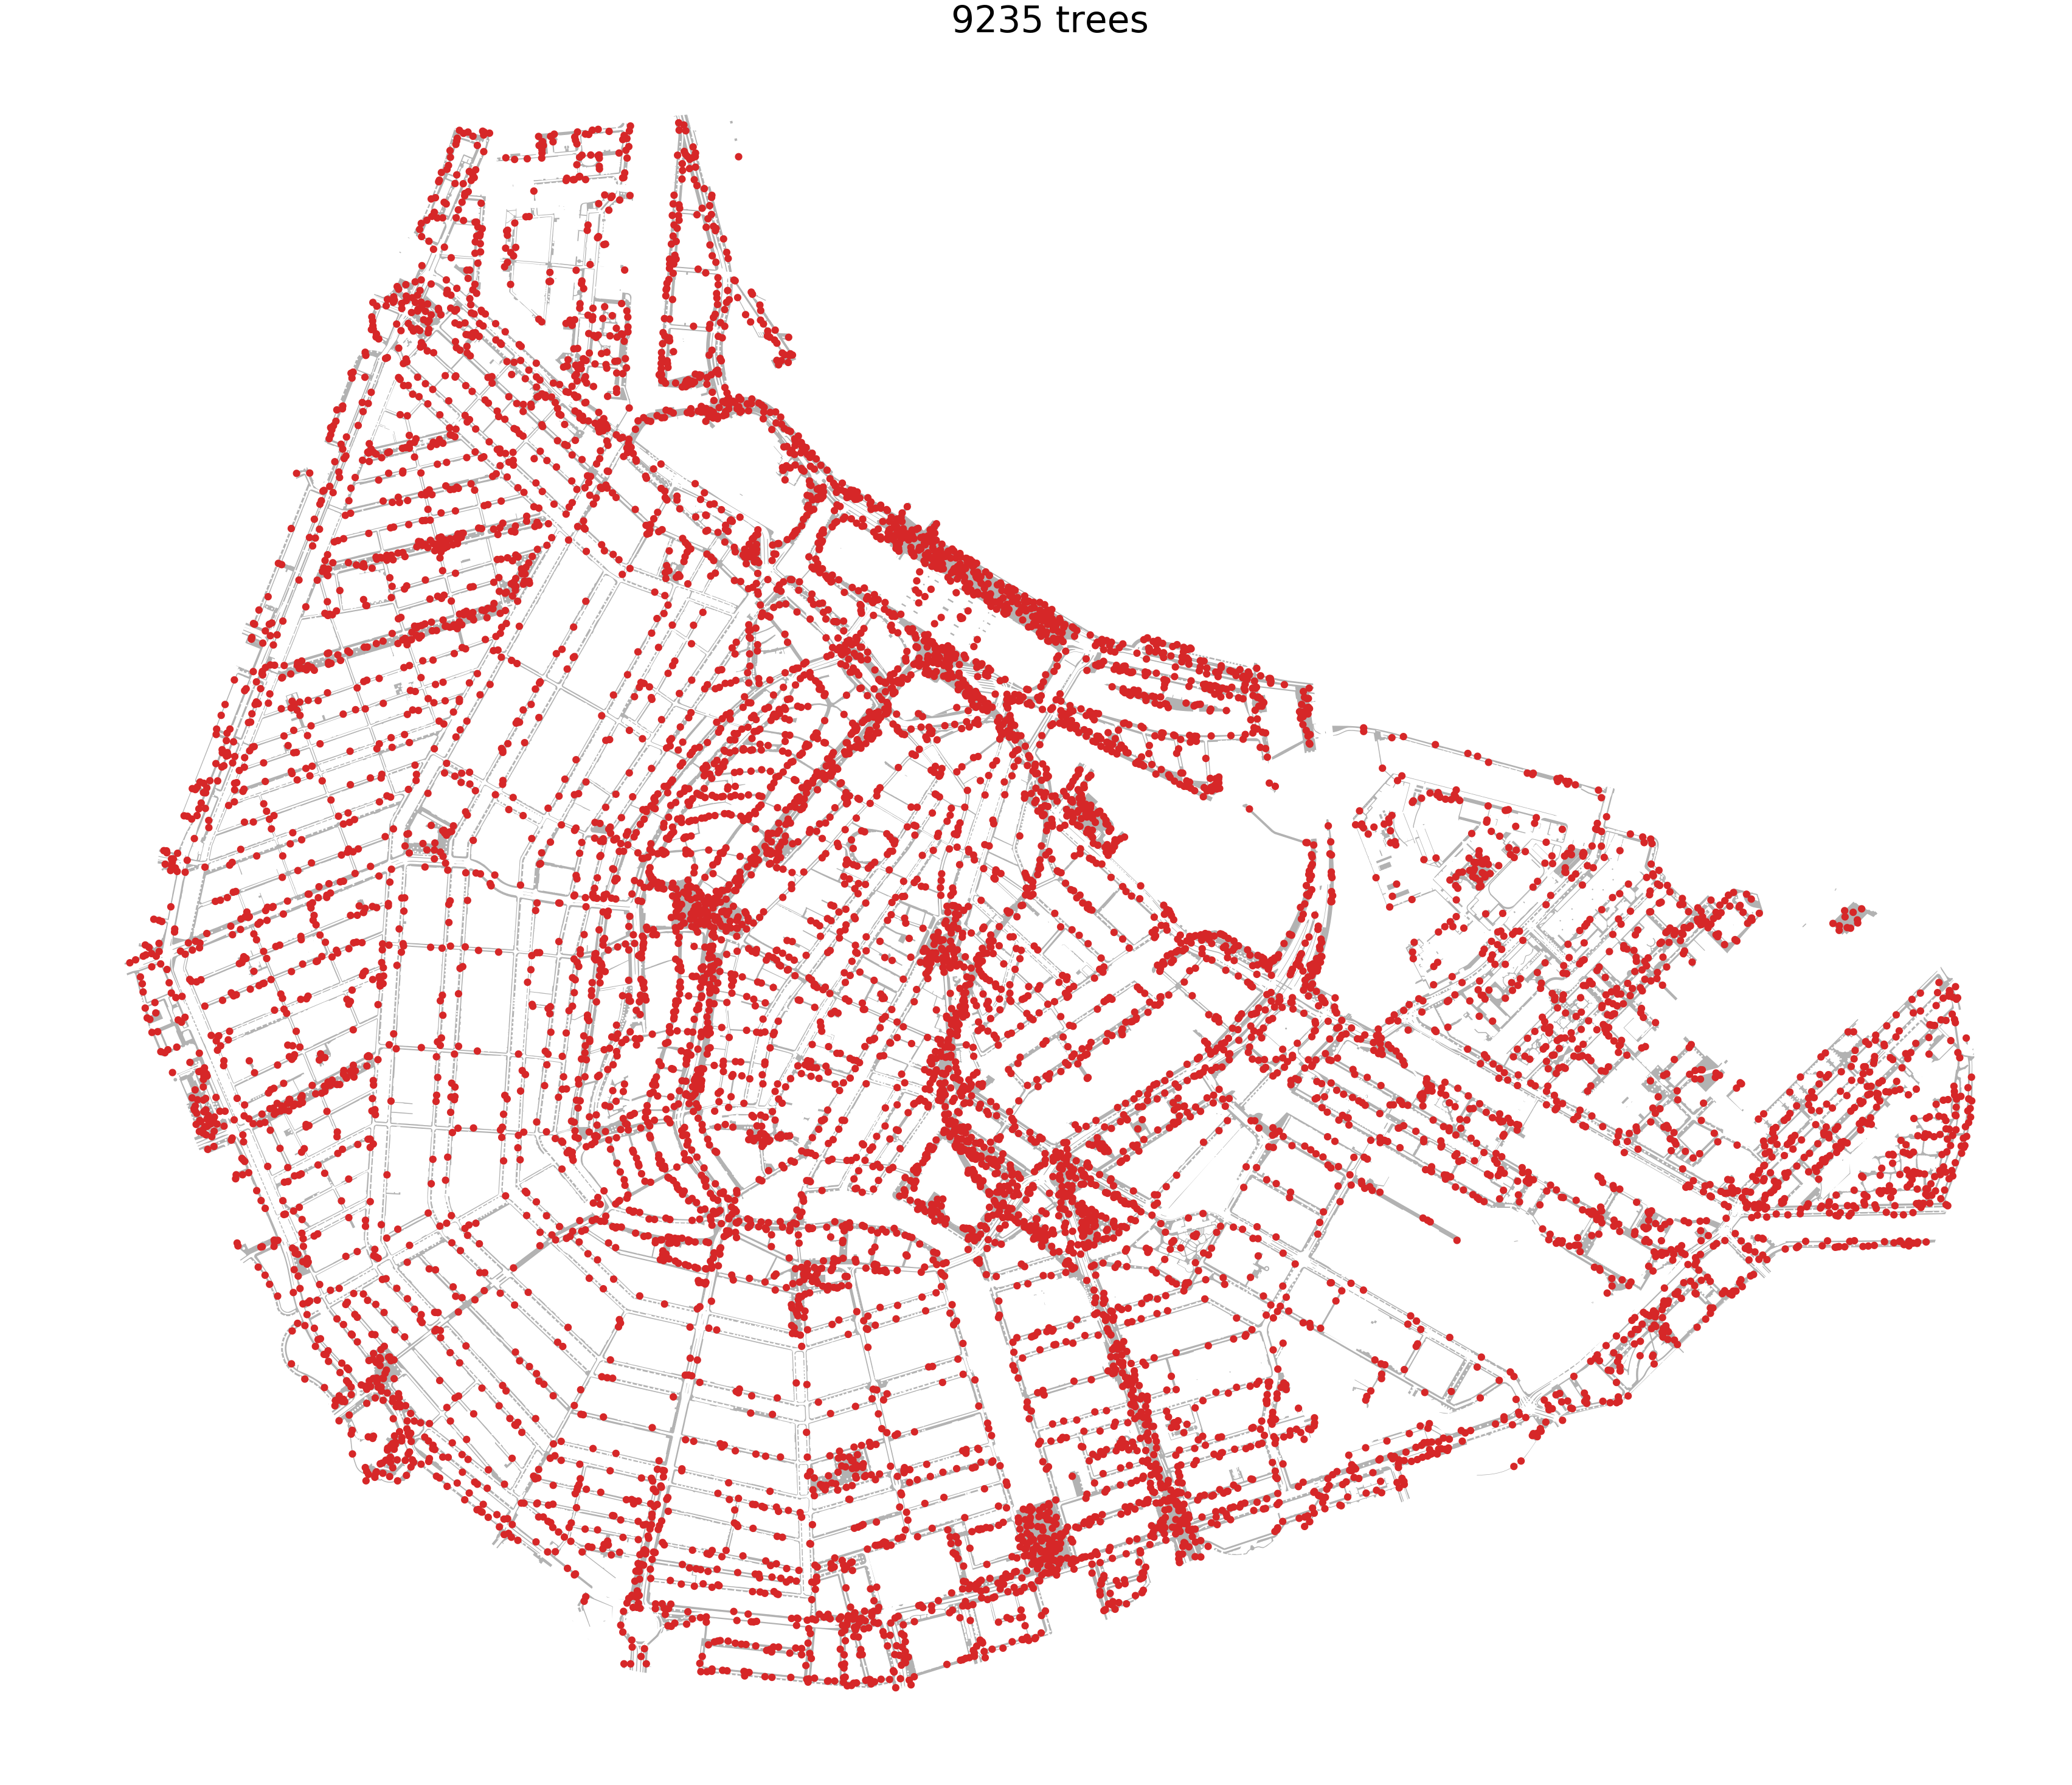

This screenshot's page, from the dashboard's own definition file:
{"tool":"tableau","page":{"name":"Dashboard 1","canvas":[1000,1000],"units":"permille","ordinal":0},"visuals":[{"type":"worksheet","title":"pt","mark":"Line","rows":["0"],"cols":["tiny_forest_area"],"box":[10,14.6,980,970.9]},{"type":"legend","title":"pt","param":"[federated.0cbgzb50fwx32t0zqqtpc04w2hoo].[none:Calculation_1052153505004306432:n","box":[810.5,71,139.7,306]}]}

Visuals, with their boxes on the dashboard's canvas, which has no fixed pixel size, in thousandths of its width and height (x1, y1, x2, y2). These are canvas units, not pixel positions in the 2072x1785 screenshot, which may show the page scaled, cropped or inside an application window:
"pt" worksheet (Line marks): l=10, t=15, r=990, b=986
"pt" legend: l=810, t=71, r=950, b=377
